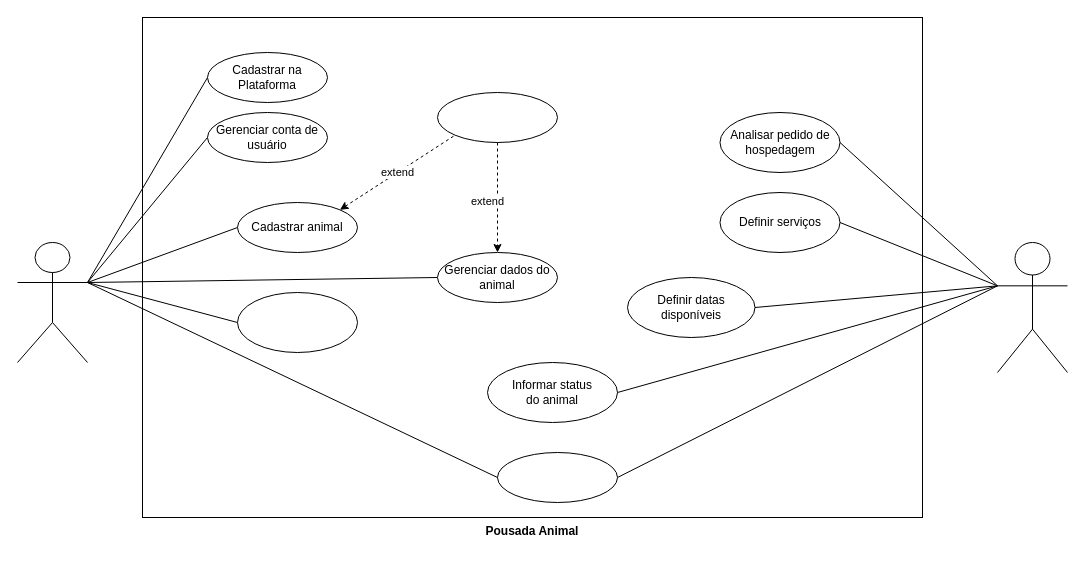
The diagram is 1085 pixels wide and 561 high, and some of its shapes have lost their labels. The centre of each missing label's shape, as x and y in pixels:
Cliente: the point at 52,302
Consultar status do animal: the point at 297,322
Fazer Login: the point at 557,477
Fazer pré-agendamento: the point at 497,117
Funcionário: the point at 1032,307
